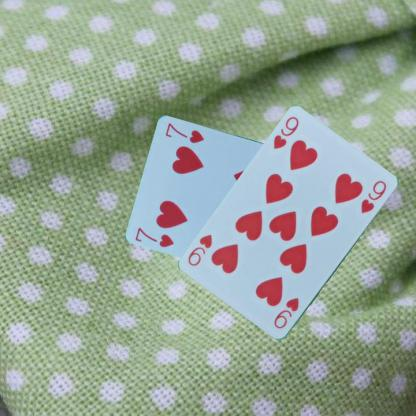7h: (133, 225, 175, 248)
9h: (270, 114, 300, 151), (271, 295, 300, 330)
